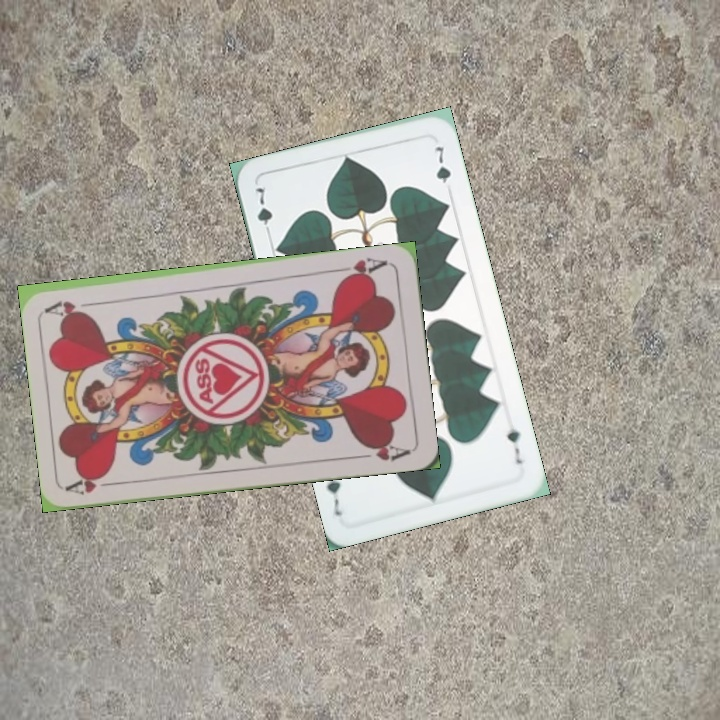G7: (251, 183, 275, 240), (503, 416, 525, 467)
HA: (332, 253, 390, 284), (65, 469, 124, 498)
